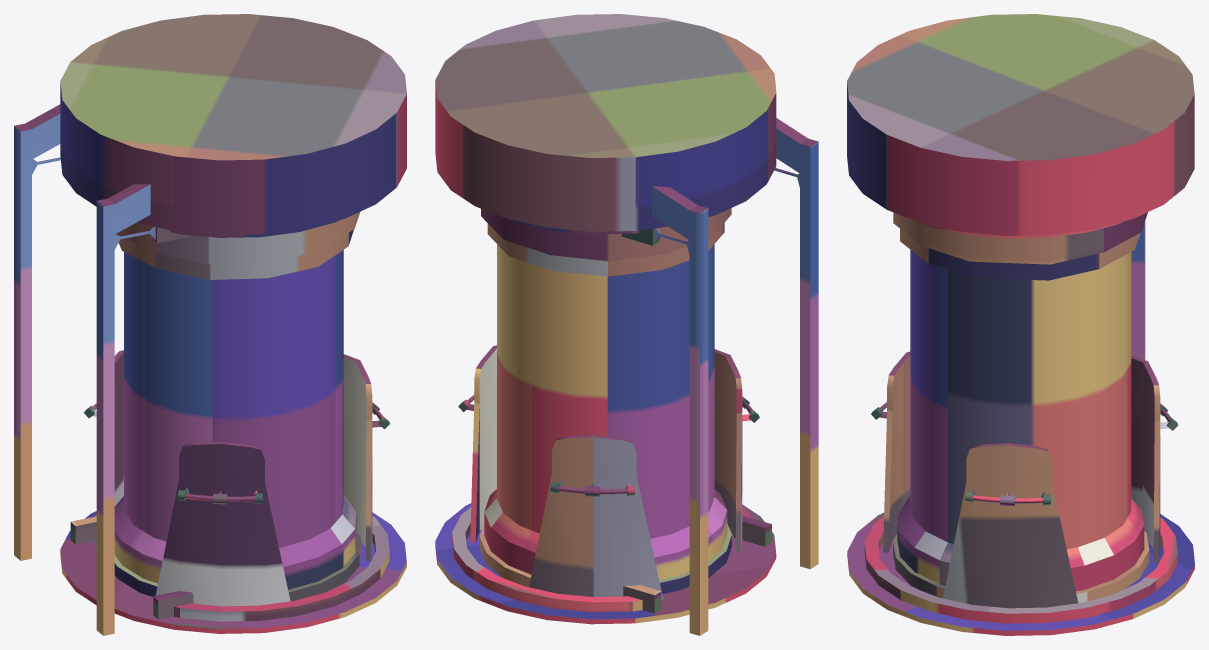
The model's file is Stuff.fbx.
3 views of the same model, side by side, from view 1: azimuth 30°, elevation 25°; view 2: azimuth 150°, elevation 25°; view 3: azimuth 270°, elevation 25° (orthographic).
Visible parts, largest first — view 1: props_med_capsule_base_005, props_med_capsule_01_light016; view 2: props_med_capsule_base_005, props_med_capsule_01_light016; view 3: props_med_capsule_base_005, props_med_capsule_01_light016.
Boxes of the visible parts, bbox=[...] form: props_med_capsule_base_005: bbox=[14, 14, 406, 635]; props_med_capsule_01_light016: bbox=[83, 350, 389, 606]; props_med_capsule_base_005: bbox=[435, 14, 818, 635]; props_med_capsule_01_light016: bbox=[458, 345, 759, 599]; props_med_capsule_base_005: bbox=[847, 14, 1194, 635]; props_med_capsule_01_light016: bbox=[871, 351, 1178, 608].
Size of the model in its own units: 262 by 368 by 243.
